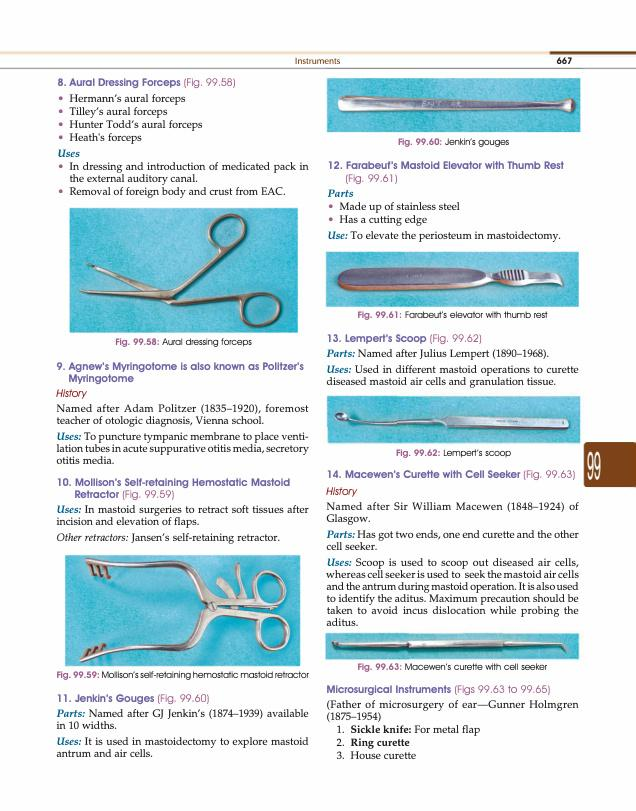caption: (56, 670, 309, 681), (357, 310, 549, 321), (357, 662, 548, 672), (115, 337, 253, 348), (395, 448, 512, 459), (397, 137, 510, 148)
header: (295, 57, 341, 65)
image: (69, 207, 298, 334), (64, 554, 301, 666), (325, 250, 580, 308), (326, 77, 581, 133), (326, 395, 580, 444), (325, 632, 580, 660)
list: (57, 161, 310, 199), (56, 93, 203, 145), (335, 724, 481, 761), (327, 201, 460, 227)
sub-section-heading: (328, 159, 565, 185), (55, 361, 305, 385), (57, 477, 290, 501), (326, 469, 577, 481), (326, 683, 551, 696), (57, 77, 236, 89), (326, 333, 482, 345), (57, 693, 210, 705), (55, 388, 88, 400), (325, 486, 357, 497), (325, 348, 356, 358), (56, 708, 86, 718), (326, 529, 356, 539), (55, 430, 82, 441), (327, 188, 354, 198), (56, 504, 82, 514), (56, 736, 82, 746), (326, 557, 352, 567), (326, 364, 352, 374), (57, 148, 81, 158), (327, 230, 349, 240)
text: (325, 556, 580, 627), (56, 708, 309, 758), (55, 504, 310, 545), (55, 429, 310, 466), (325, 500, 580, 526), (55, 402, 309, 427), (325, 364, 579, 389), (326, 699, 579, 722), (325, 529, 580, 551), (350, 230, 561, 243), (357, 347, 550, 361)
